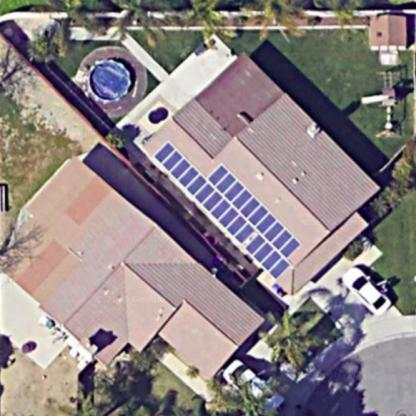car: (216, 346, 290, 416), (339, 263, 398, 320)
solar_panel: (148, 128, 308, 282)
